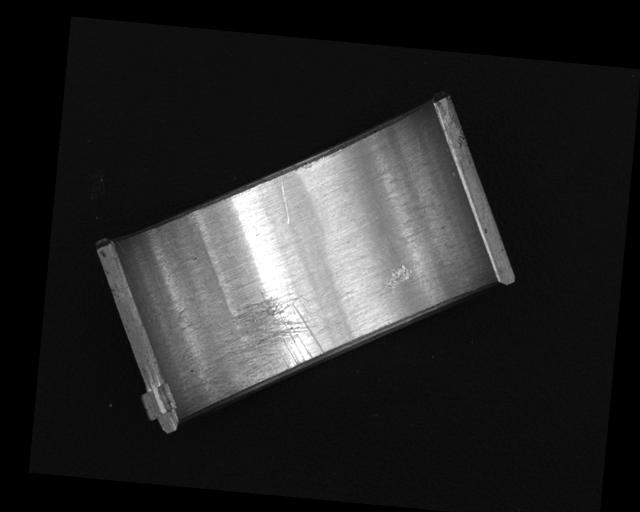bruise: (380, 261, 412, 290)
nick: (277, 180, 293, 224)
scratch: (217, 285, 330, 408)
